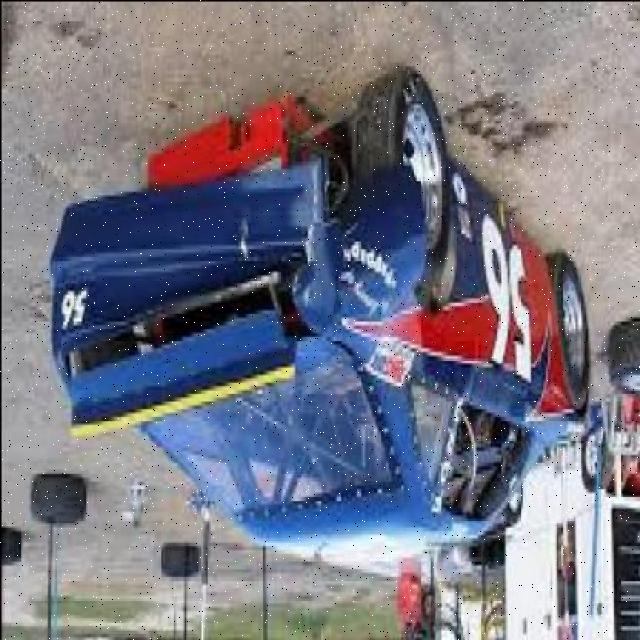damage: (146, 102, 451, 343)
